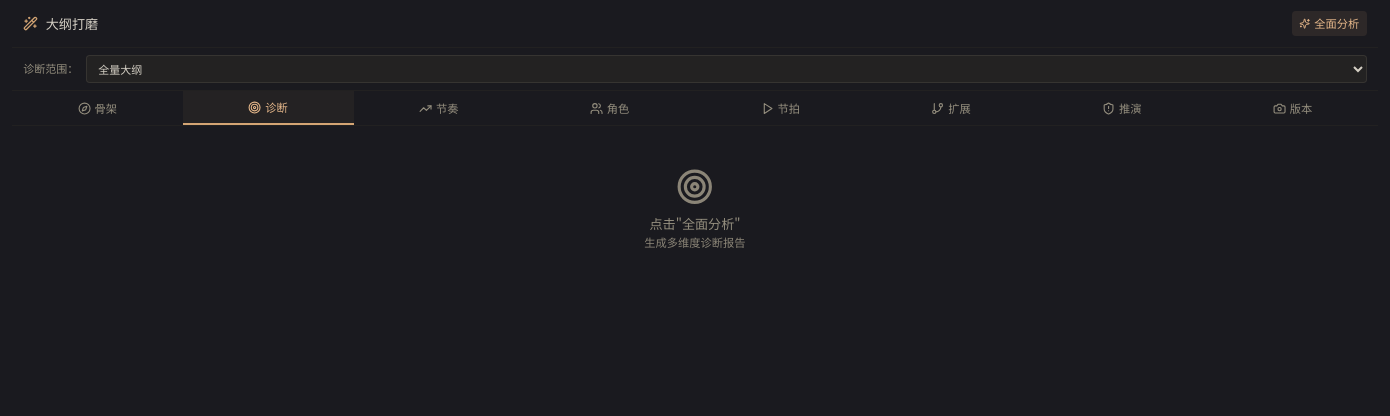
Test case: OutlinePolishPanel › 切换驱动类型时 placeholder 跟随变化
The width and height of the screenshot is (1390, 416).
Click the button "骨架" at (97,108), box top-left (12, 91), bottom-right (183, 125)
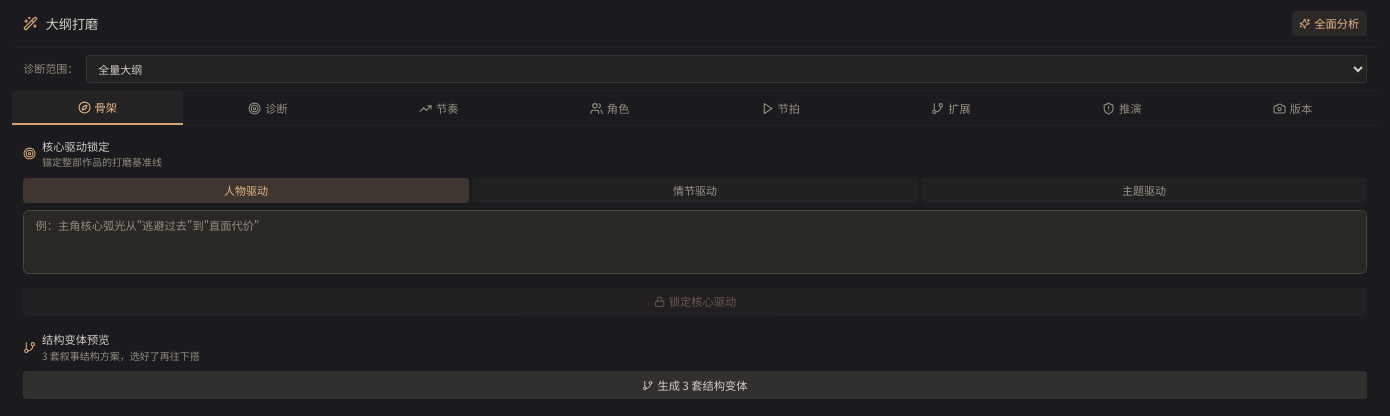
Now the text box with placeholder "例：主角核心弧光从\"逃避过去\"到\"直面代价\"" is shown, box top-left (23, 210), bottom-right (1367, 274)
Click the button "情节驱动" at (695,190), box top-left (472, 178), bottom-right (918, 203)
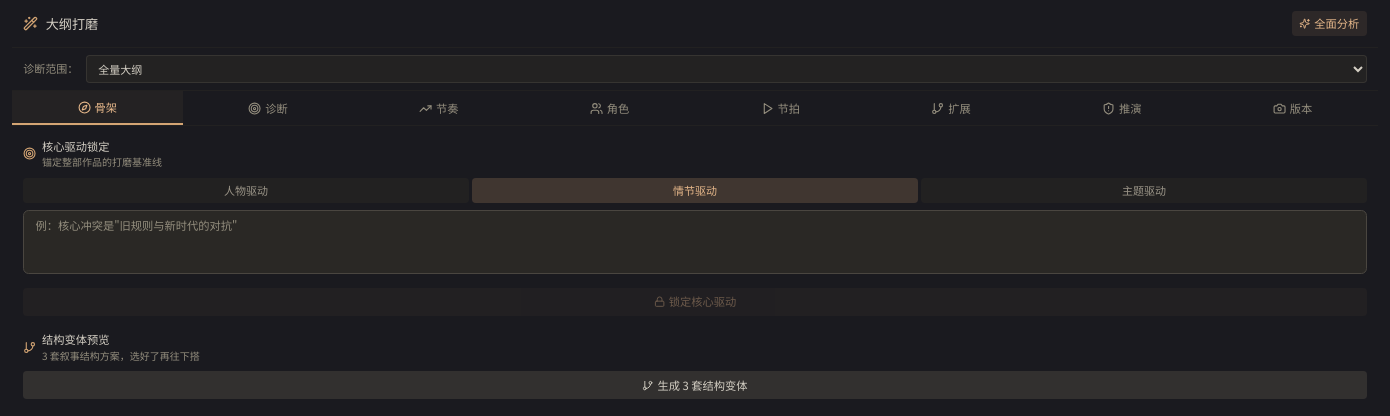
Now the text box with placeholder "例：核心冲突是\"旧规则与新时代的对抗\"" is shown, box top-left (23, 210), bottom-right (1367, 274)
Click the button "主题驱动" at (1144,190), box top-left (921, 178), bottom-right (1367, 203)
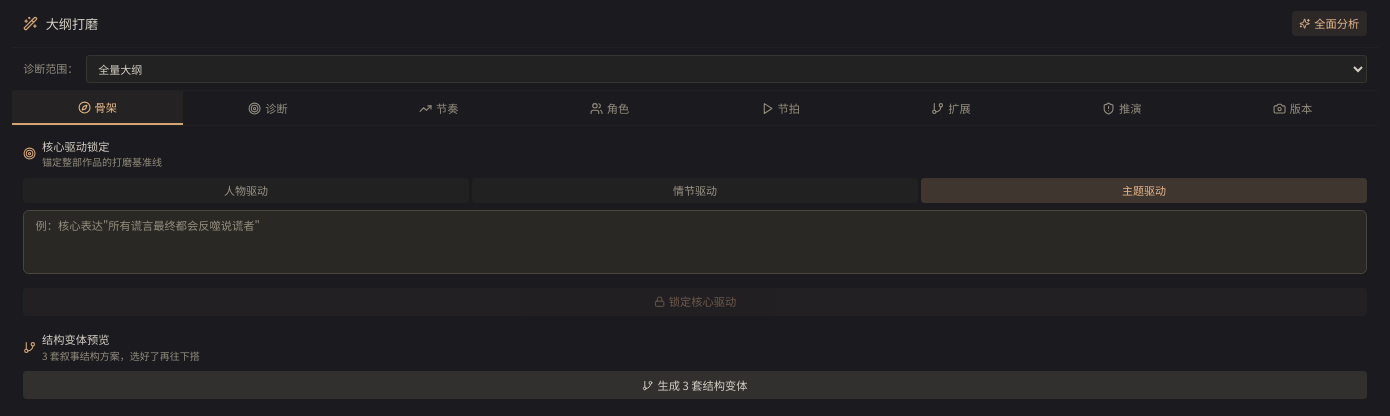
Now the text box with placeholder "例：核心表达\"所有谎言最终都会反噬说谎者\"" is shown, box top-left (23, 210), bottom-right (1367, 274)
